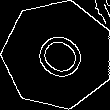O_SE: (23, 22, 92, 88)
